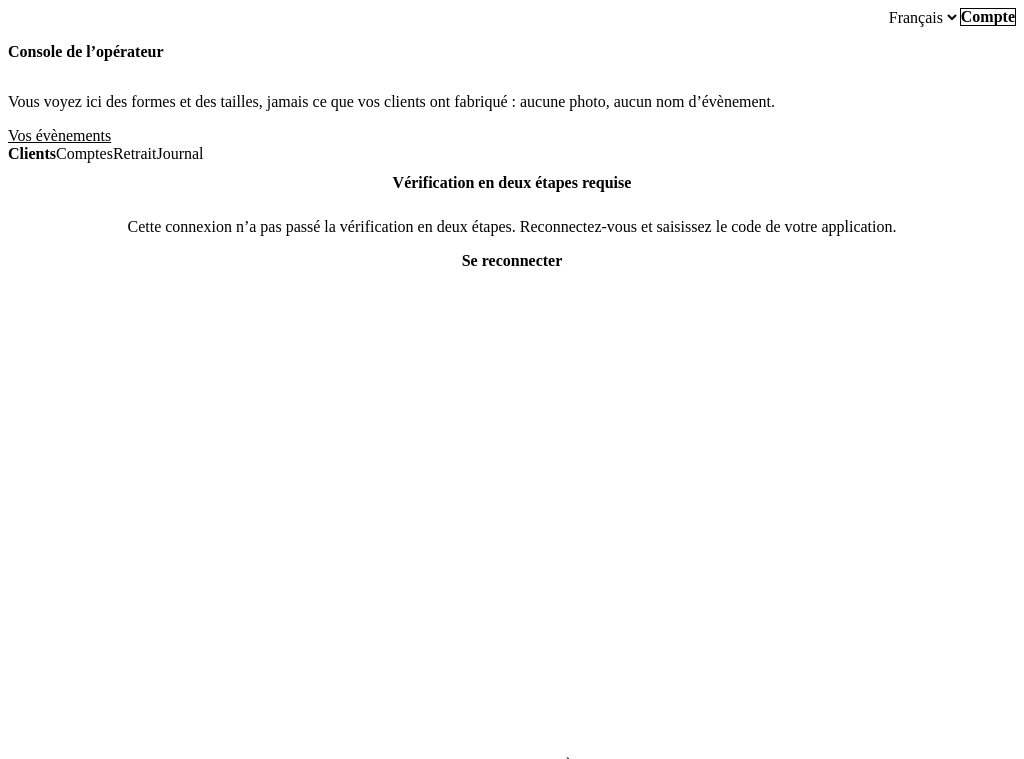
Test: the second factor, where the box requires one › says why, and stays, when signing out failed
Click the button "Se reconnecter" at (512, 261), box [461,252,563,270]
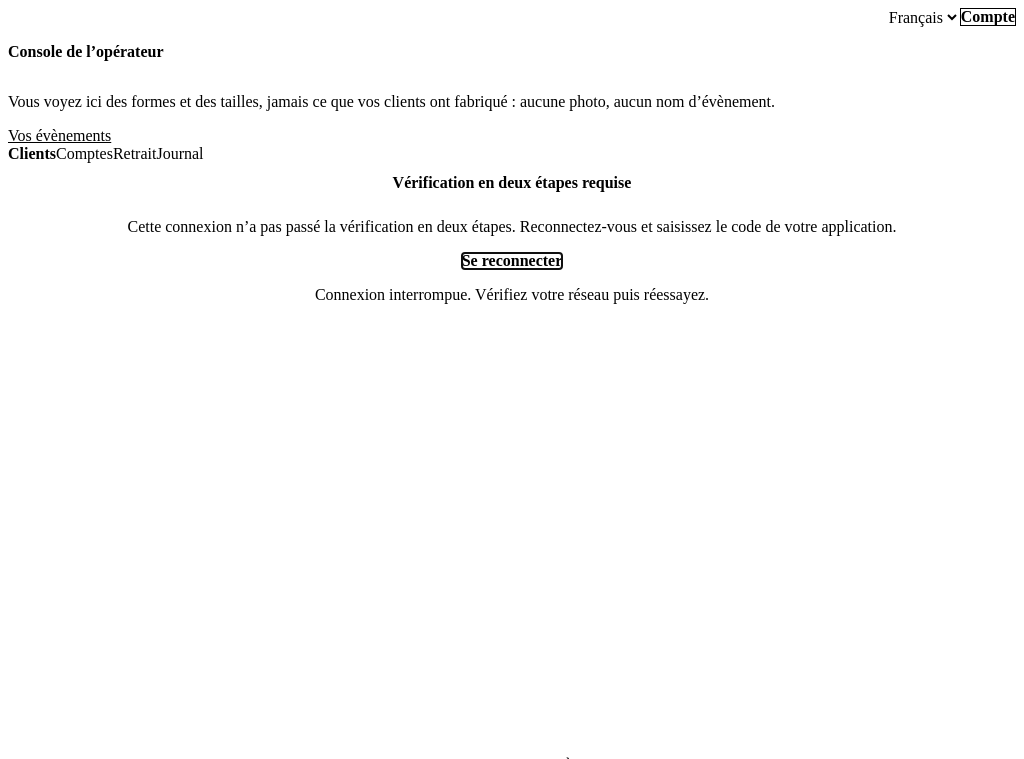
Expected: the heading "Vérification en deux étapes requise" is shown, [393,174,631,192]
Now the message reads "Connexion interrompue. Vérifiez votre réseau puis réessayez.", box [315,286,709,303]
